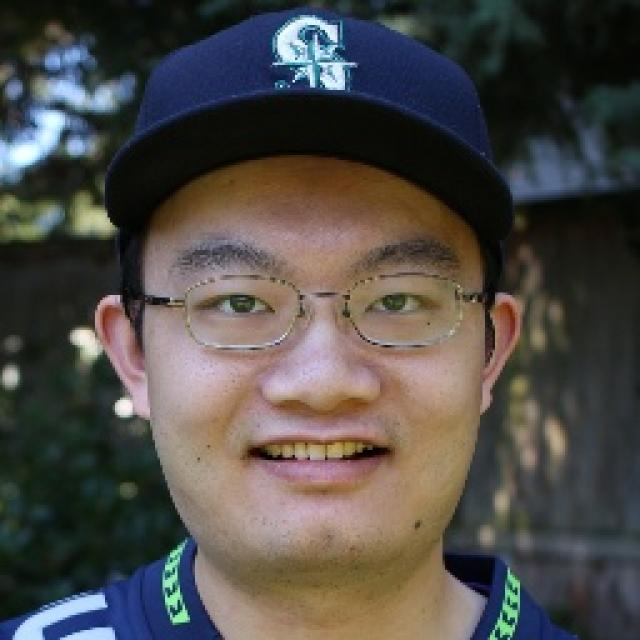earlobe: (94, 294, 154, 421), (474, 292, 520, 416)
